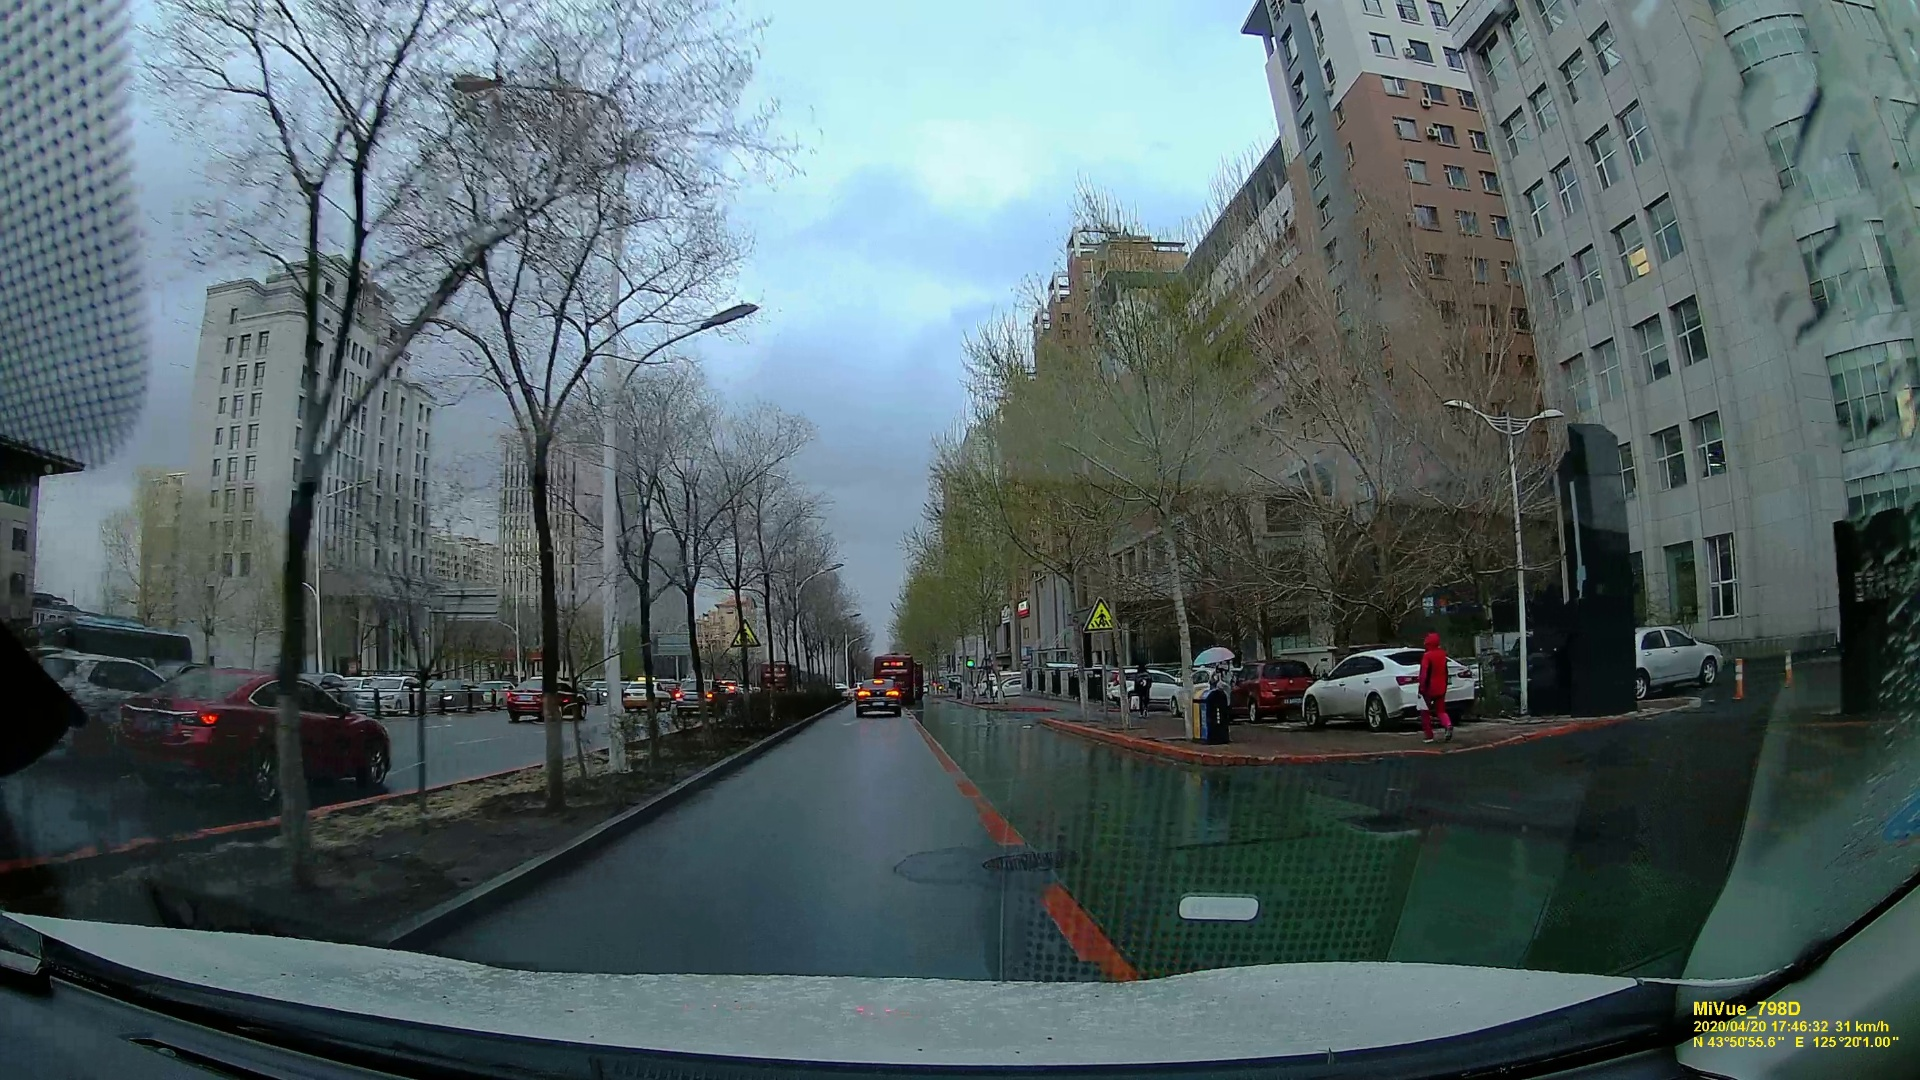bus: (874, 653, 914, 692)
person: (1417, 632, 1457, 752), (1210, 654, 1235, 711), (1132, 663, 1155, 714)
traffic_sign: (1084, 598, 1119, 632), (734, 618, 759, 650)
vehicle: (121, 664, 389, 808), (1299, 643, 1461, 731), (1635, 623, 1728, 695), (504, 676, 588, 722), (675, 677, 717, 716), (854, 679, 899, 715)
